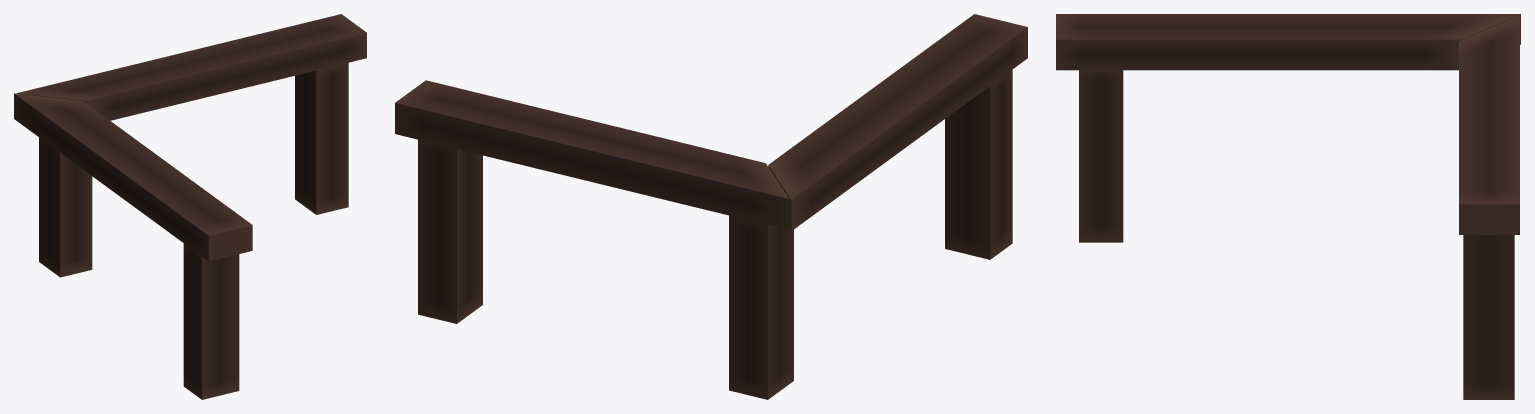
File: horse_parking_corner_v01.fbx
The picture shows the model from 3 angles, left to right: view 1: azimuth 30°, elevation 25°; view 2: azimuth 150°, elevation 25°; view 3: azimuth 270°, elevation 25°; orthographic projection. The views are drawn at different scales.
Parts seen in each view (by area): view 1: horse_parking_corner_v01; view 2: horse_parking_corner_v01; view 3: horse_parking_corner_v01.
Boxes of the visible parts, x1=… form: horse_parking_corner_v01: x1=14, y1=14, x2=366, y2=399; horse_parking_corner_v01: x1=395, y1=14, x2=1027, y2=399; horse_parking_corner_v01: x1=1056, y1=14, x2=1520, y2=399.
Bounding box in the file's own units: 279 × 140 × 288.
